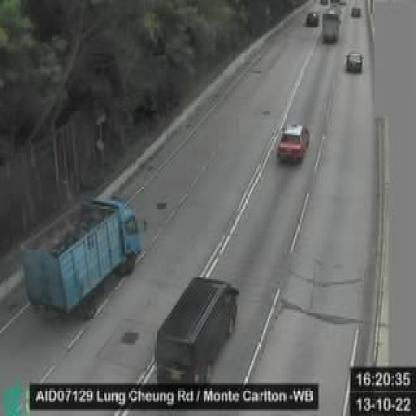Bus: (322, 9, 340, 44)
Car: (152, 276, 238, 386), (278, 124, 311, 164), (346, 49, 364, 73), (351, 4, 361, 17)
Truck: (22, 194, 143, 322)
